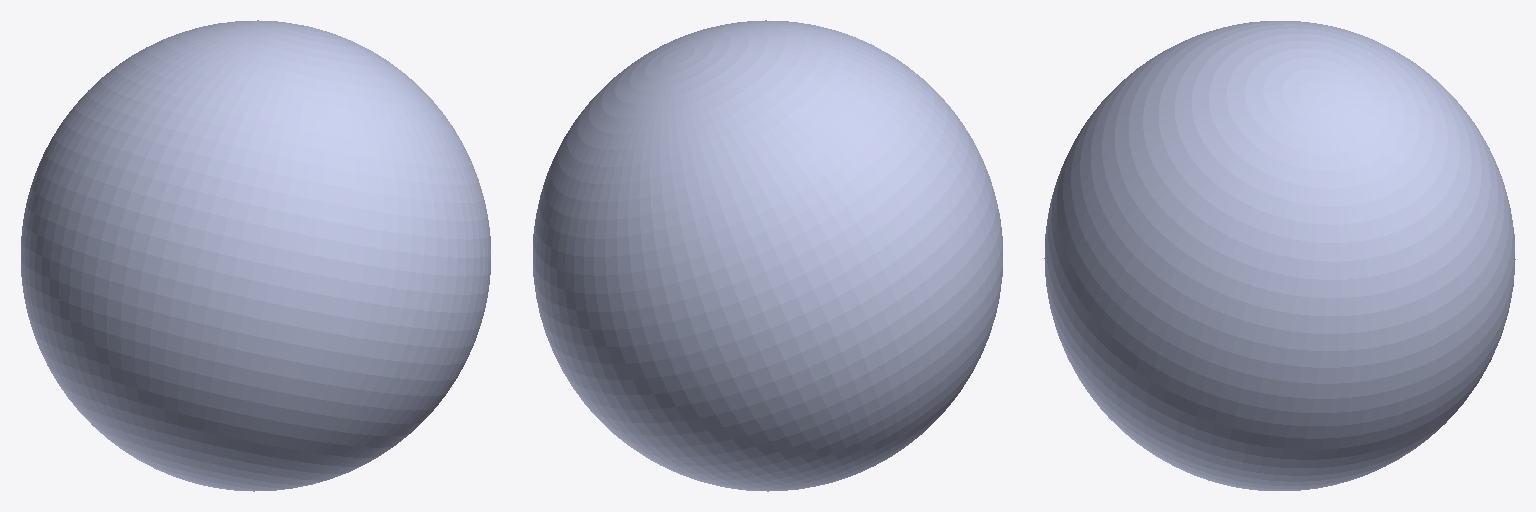
URDF robot description (ball):
<?xml version="1.0" encoding="utf-8"?>
<robot name="ball">
    <link
    name="ball_link">
    <inertial>
      <origin
        xyz="1.3878E-17 0 0"
        rpy="0 0 0" />
      <mass
        value="0.024429" />
      <inertia
        ixx="3.166E-06"
        ixy="1.0125E-22"
        ixz="5.7175E-22"
        iyy="3.166E-06"
        iyz="2.3823E-22"
        izz="3.166E-06" />
    </inertial>
    <visual>
      <origin
        xyz="0 0 0"
        rpy="0 0 0" />
      <geometry>
        <mesh
          filename="package://robotbar_pid_seesaw/meshes/ball_link.STL" />
      </geometry>
      <material
        name="">
        <color
          rgba="0.79216 0.81961 0.93333 1" />
      </material>
    </visual>
    <collision>
      <origin
        xyz="0 0 0"
        rpy="0 0 0" />
      <geometry>
        <mesh
          filename="package://robotbar_pid_seesaw/meshes/ball_link.STL" />
      </geometry>
    </collision>
  </link>

  <gazebo reference="ball_link">
      <material>Gazebo/Orange</material>
      <maxContacts>1</maxContacts>
  </gazebo>
</robot>

--- Facts derived from the render (not from the file) ---
Views: 3 orthographic renders of the robot side by side, from view 1: azimuth 30°, elevation 25°; view 2: azimuth 150°, elevation 25°; view 3: azimuth 270°, elevation 25°.
Model ball with 1 links and 0 joints (none), rooted at ball_link, posed every joint at zero.
Visible links, largest first — view 1: ball_link; view 2: ball_link; view 3: ball_link.
Boxes of the visible links, x1=… form: ball_link: x1=21, y1=20, x2=490, y2=491; ball_link: x1=533, y1=20, x2=1002, y2=491; ball_link: x1=1044, y1=21, x2=1515, y2=490.
Bounding box of the posed robot: 0.036 × 0.036 × 0.036 m (x, y, z).
Meshes: 1 distinct files referenced, 1 mesh visuals loaded (1 binary STL).